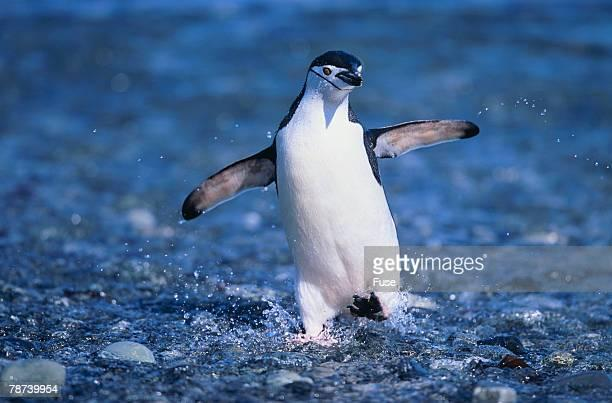chinstrap: (206, 43, 438, 336)
